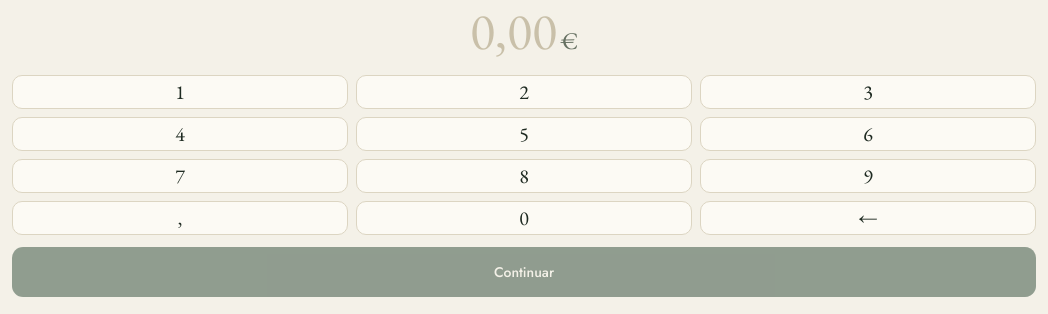
Test: EntradaImporte › "Continuar" empieza deshabilitado con importe 0 y se habilita al teclear algo
The image size is (1048, 314).
expect the button "Continuar" is disabled: met, box [12, 247, 1036, 297]
Click the button "5": (524,134) [356, 117, 692, 151]
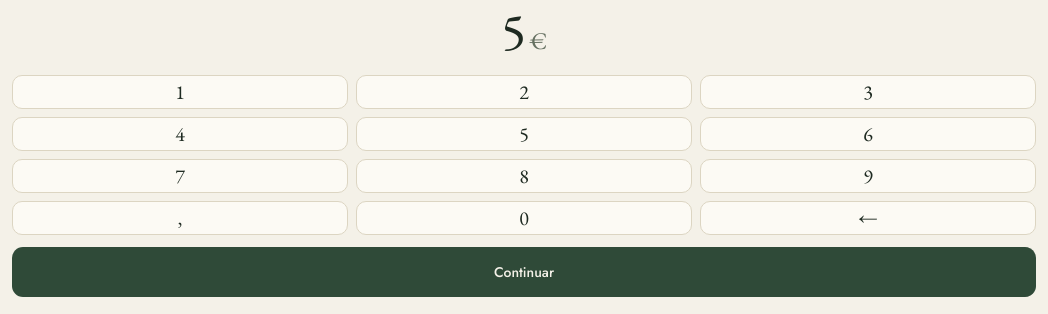
expect the button "Continuar" is enabled: met, box [12, 247, 1036, 297]
